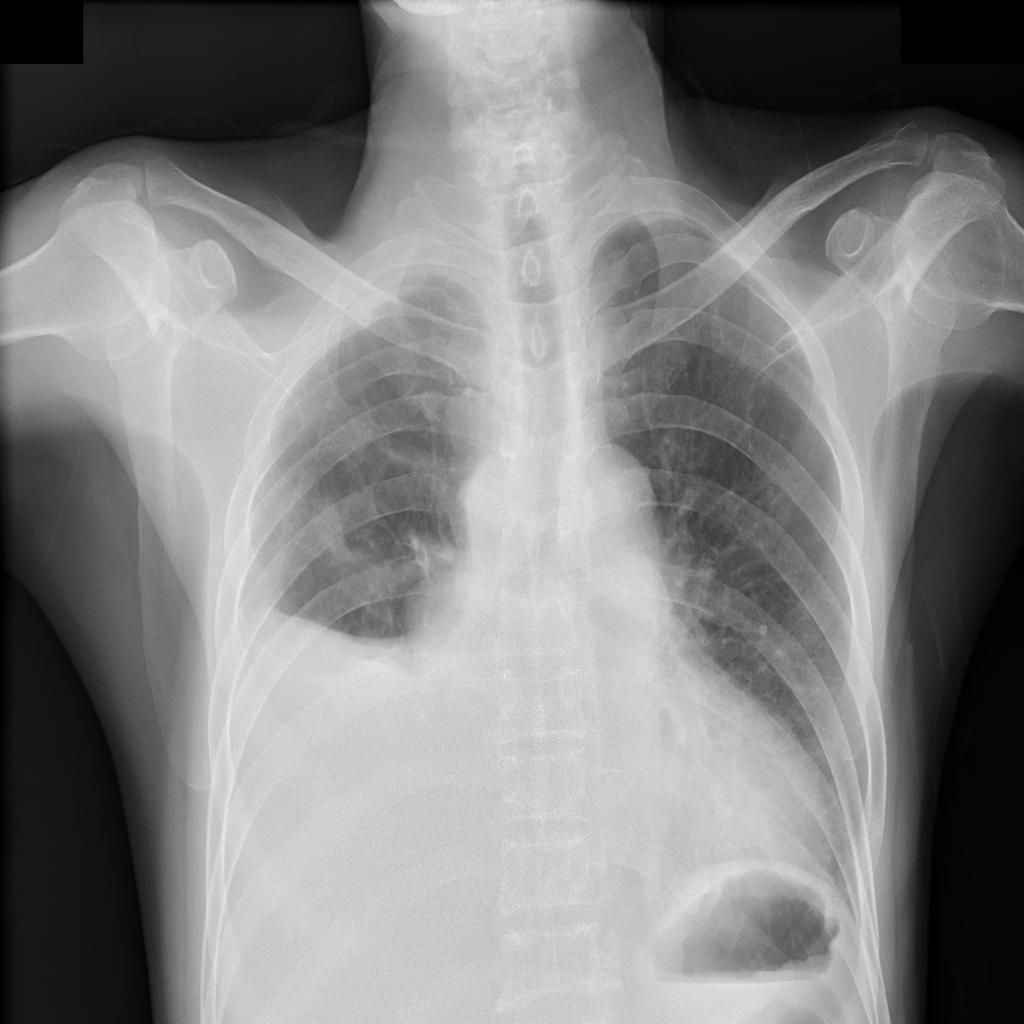Nodule: (404, 572, 476, 662)
